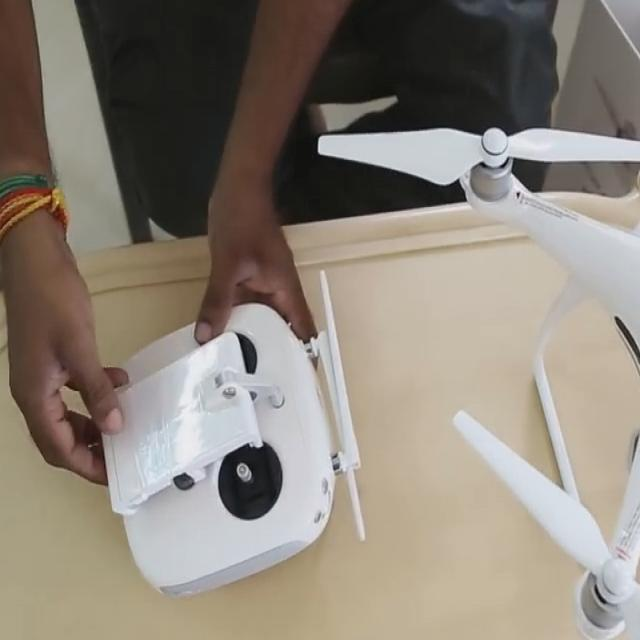drone: (319, 0, 640, 640)
